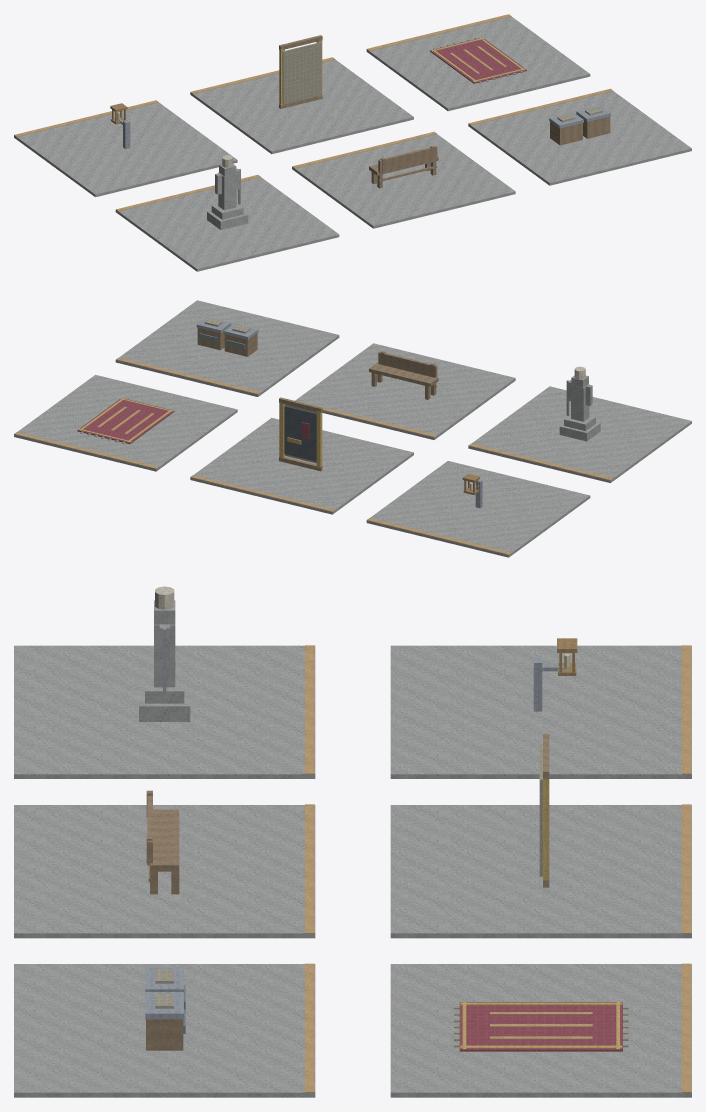
Rendered from level_blockout_kit_castle_p08.glb.
3 views of the same model, one above another, from view 1: azimuth 30°, elevation 25°; view 2: azimuth 150°, elevation 25°; view 3: azimuth 270°, elevation 25° (orthographic). The views are drawn at different scales.
Parts seen in each view (by area): view 1: level_blockout_kit_castle_p08; view 2: level_blockout_kit_castle_p08; view 3: level_blockout_kit_castle_p08.
Boxes of the visible parts, x1,y1,x2,y2 form: level_blockout_kit_castle_p08: (14,14,691,271); level_blockout_kit_castle_p08: (14,300,691,557); level_blockout_kit_castle_p08: (14,586,691,1097).
Bounding box in the file's own units: 19.65 × 2.54 × 12.6.
Materials: 12 (12 with a texture image).
